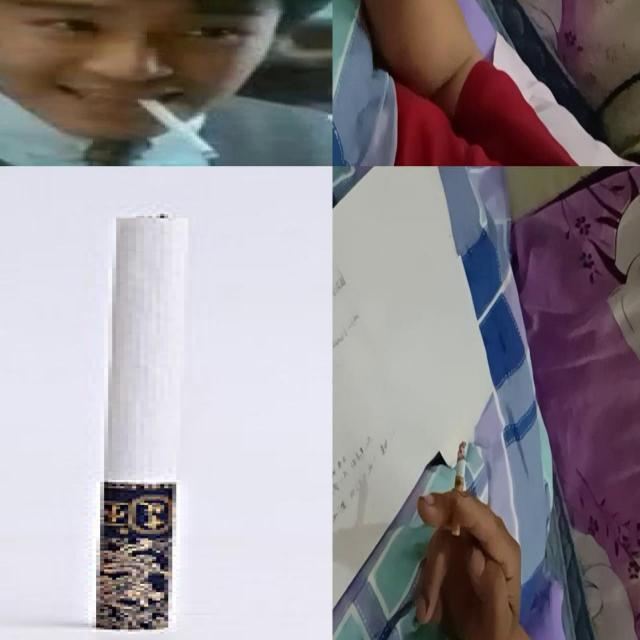rokok: (96, 209, 172, 627), (132, 93, 222, 159), (451, 440, 467, 538)
